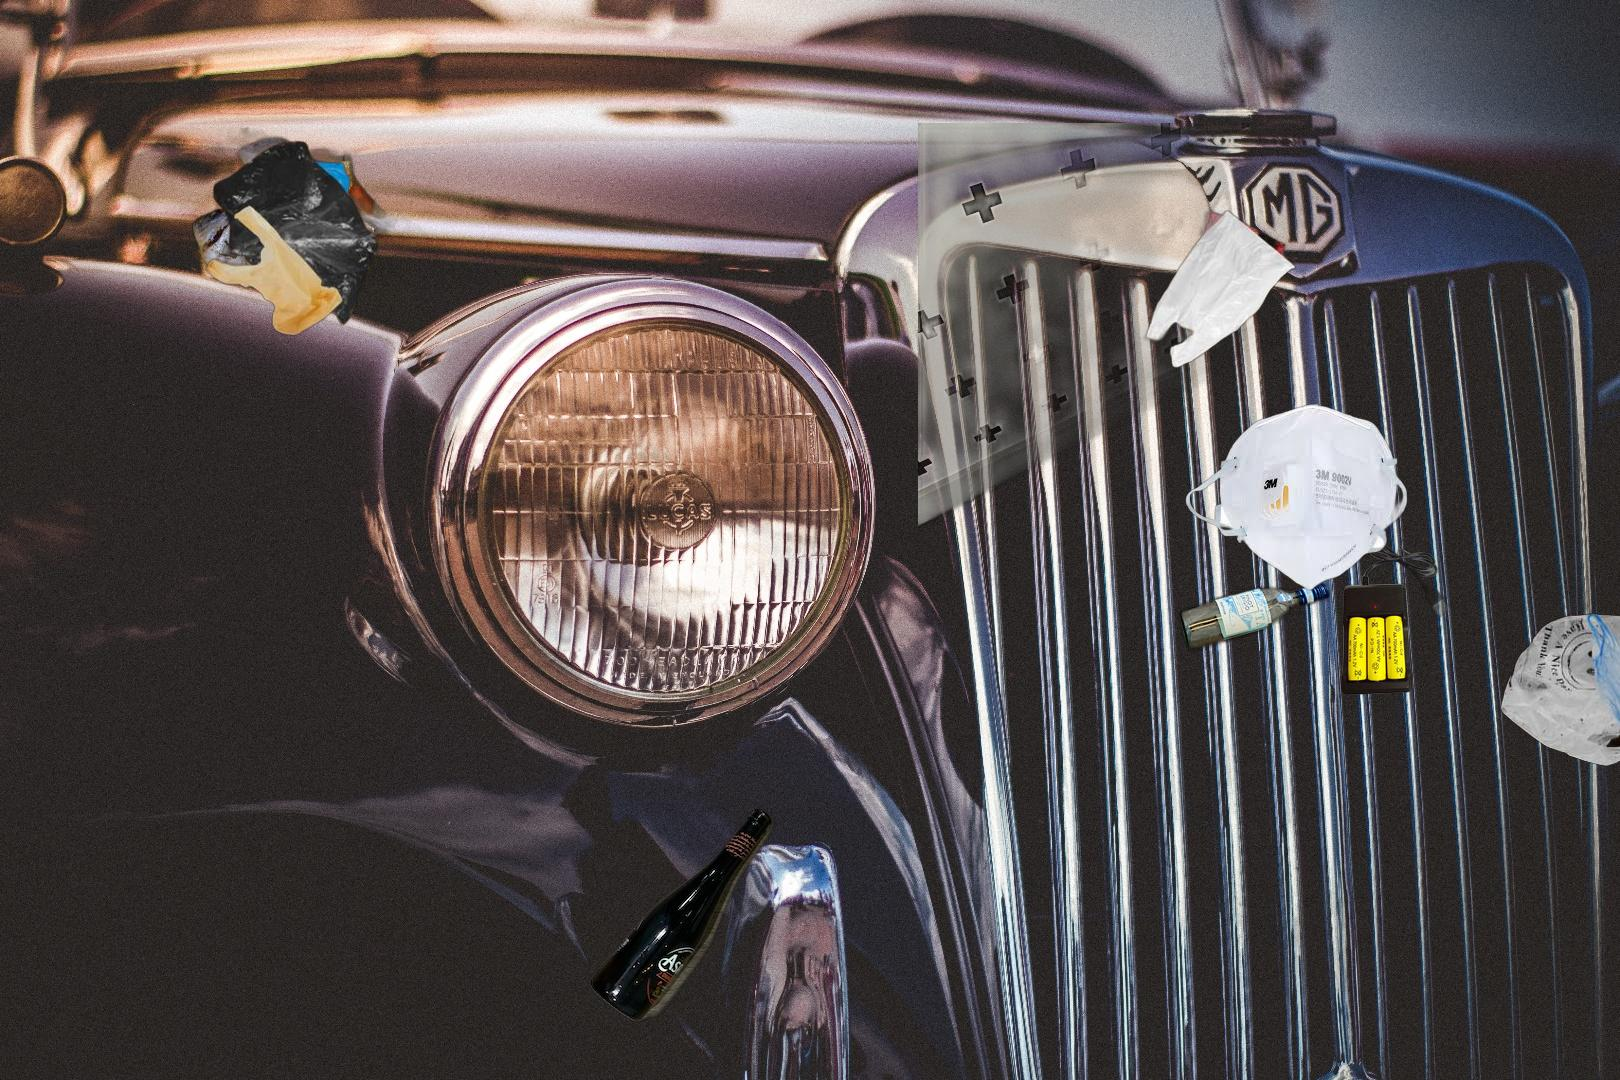battery: (1338, 535, 1454, 698)
biological: (182, 127, 469, 294)
glass: (918, 123, 1430, 657), (586, 802, 777, 1026)
plastic-bag: (1005, 207, 1299, 469), (202, 140, 382, 337), (1499, 577, 1620, 769)
trash: (1184, 401, 1409, 593)
